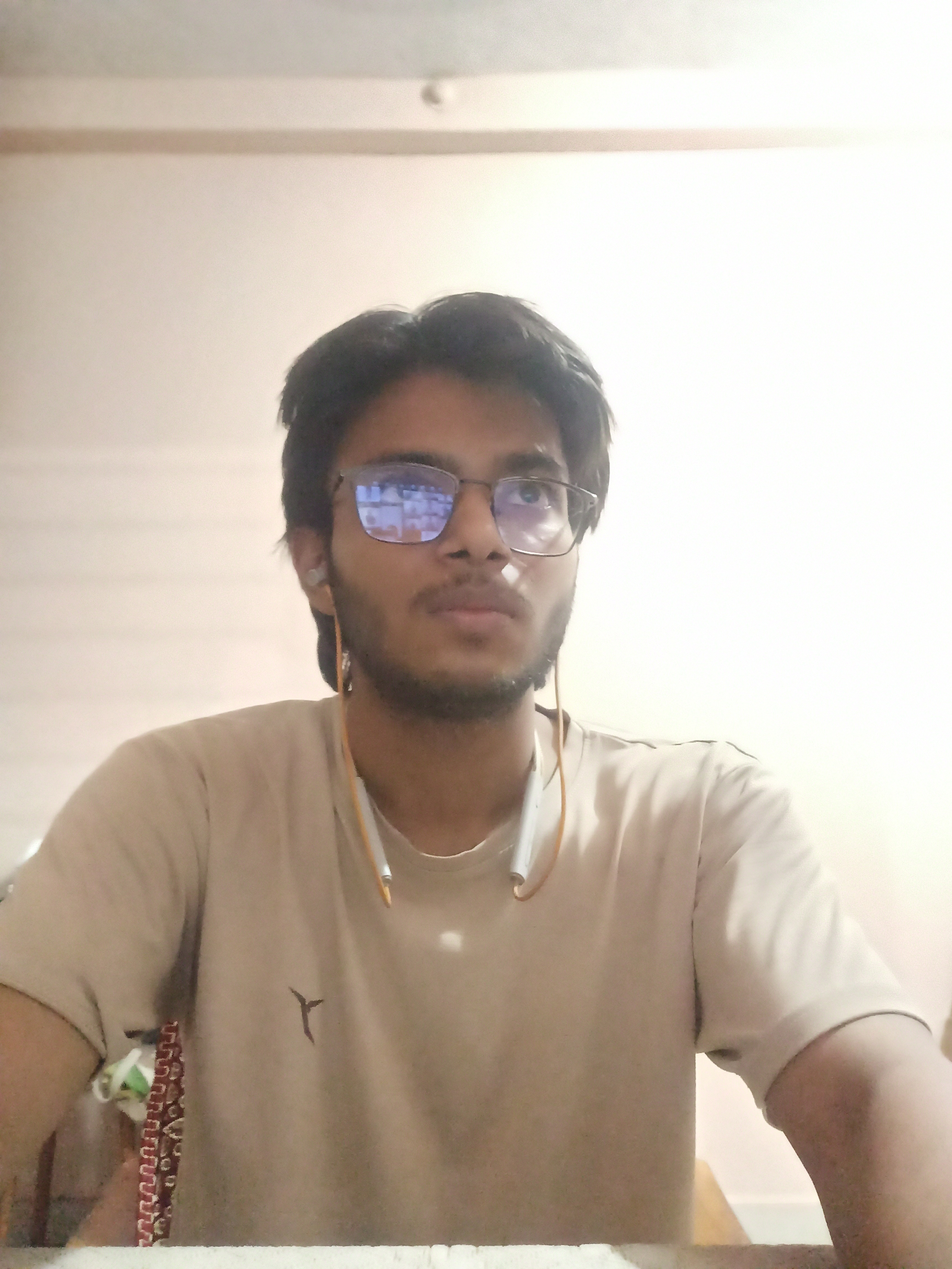Focused: (269, 236, 684, 866)
